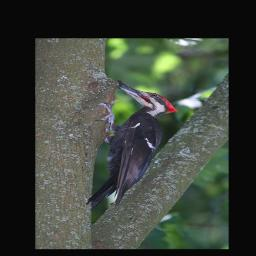Woodpecker: (86, 81, 179, 210)
